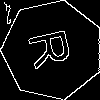R: (27, 25, 81, 70)
